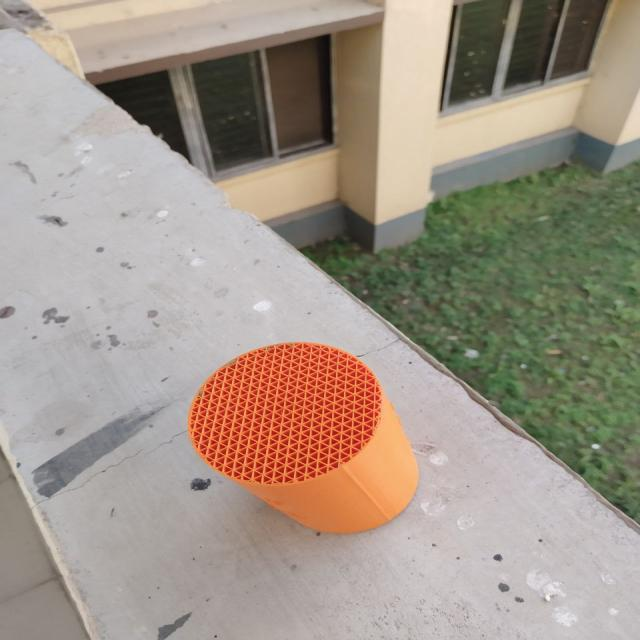Cylinder: (187, 340, 420, 534)
